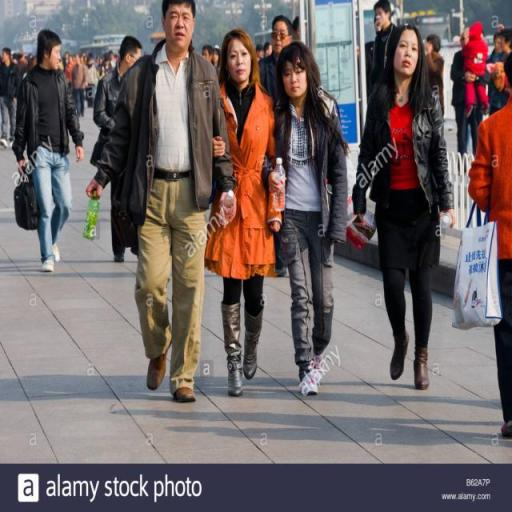person: (90, 2, 231, 403), (350, 26, 441, 392), (268, 36, 351, 403), (215, 29, 277, 396), (468, 56, 512, 444), (16, 28, 85, 272), (95, 34, 149, 265), (454, 27, 486, 176), (1, 44, 22, 150), (74, 56, 87, 119), (88, 57, 99, 112)
